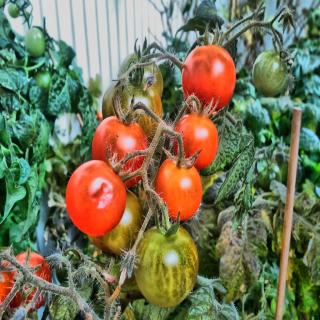tomato: (132, 204, 198, 308), (66, 146, 130, 235), (91, 94, 147, 188), (182, 24, 235, 113), (101, 74, 162, 145), (155, 132, 203, 221), (87, 186, 141, 258), (173, 99, 219, 171), (117, 38, 164, 97), (8, 253, 51, 314), (251, 48, 287, 97), (257, 161, 281, 192), (24, 26, 45, 56), (34, 68, 51, 89), (7, 2, 20, 18)
